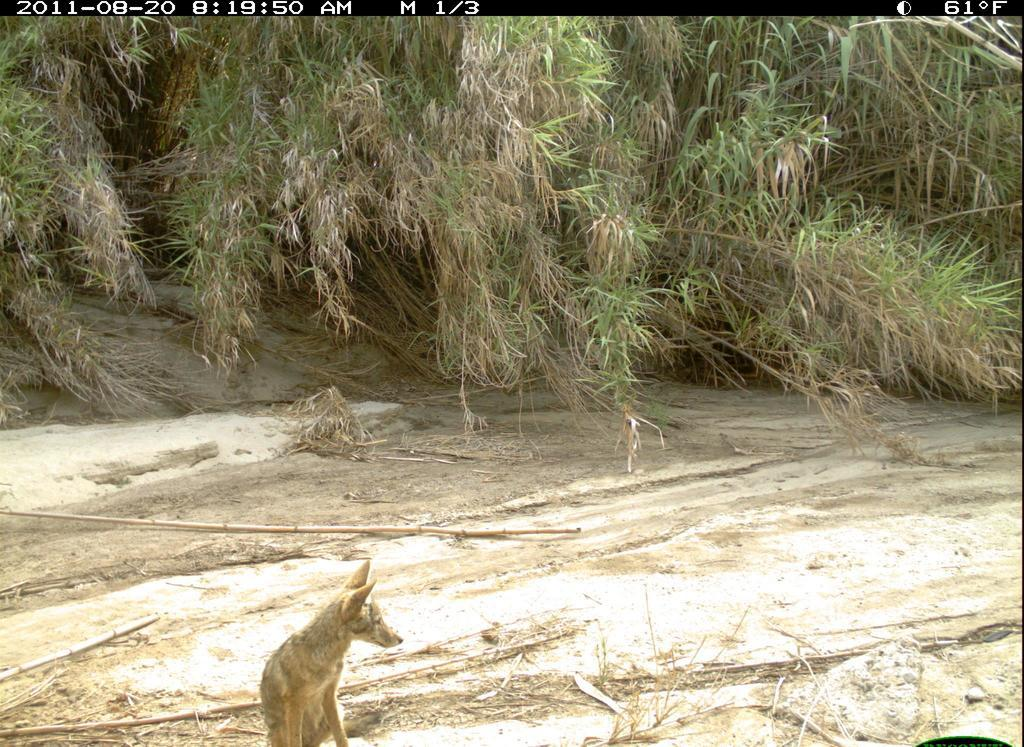coyote: (254, 547, 436, 740)
